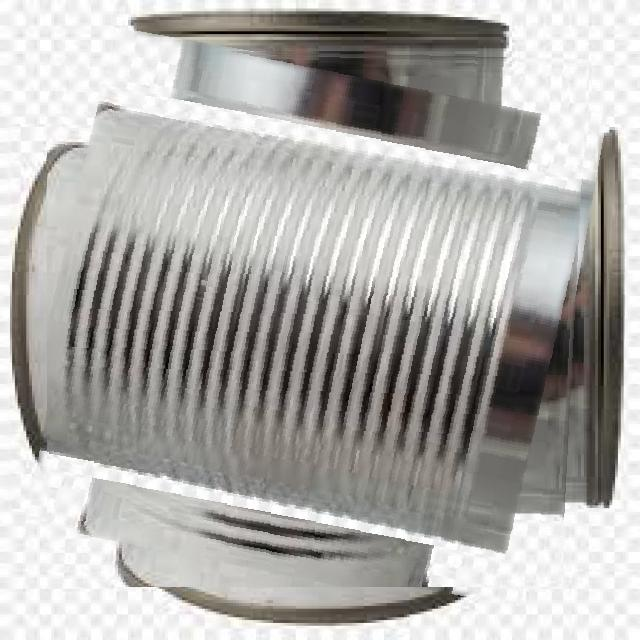recyclable: (47, 47, 588, 587)
